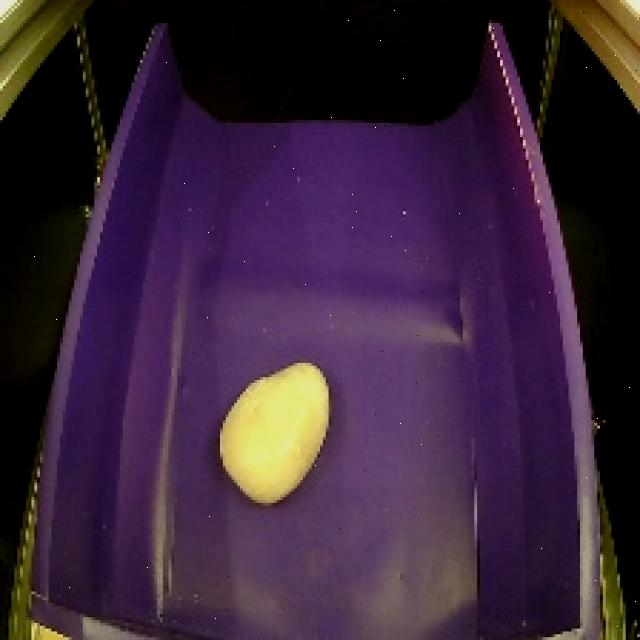cobbles: (210, 348, 336, 512)
